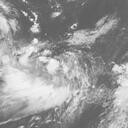cyclone: (23, 48, 87, 113)
